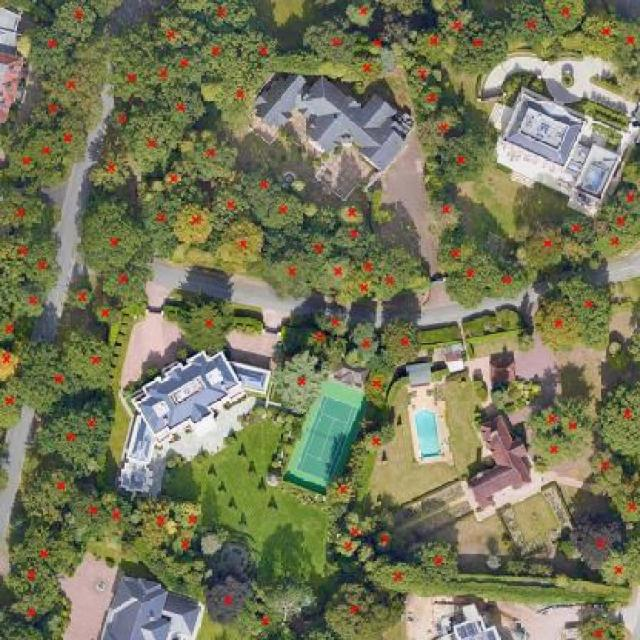tree: (78, 195, 144, 262), (323, 581, 388, 640), (592, 380, 640, 458), (564, 275, 616, 347), (20, 340, 74, 408), (39, 408, 96, 472), (0, 591, 71, 640), (373, 245, 433, 300), (279, 325, 352, 370), (574, 514, 628, 572), (454, 17, 508, 74), (276, 349, 322, 414), (445, 256, 497, 310), (128, 113, 178, 169), (303, 18, 363, 62), (218, 218, 264, 274), (536, 294, 579, 352), (206, 574, 251, 626), (44, 62, 96, 106), (182, 304, 230, 351), (178, 0, 258, 28), (138, 496, 180, 547), (72, 338, 113, 390), (0, 188, 48, 232), (441, 135, 485, 182), (73, 399, 116, 447), (98, 261, 151, 299), (32, 26, 76, 71), (270, 580, 312, 626), (159, 84, 206, 125), (53, 0, 98, 42), (371, 557, 418, 597), (417, 538, 461, 580), (191, 132, 235, 174), (268, 248, 310, 292), (156, 14, 210, 48), (384, 316, 422, 364), (106, 62, 154, 100), (141, 196, 184, 238), (0, 563, 63, 591), (511, 2, 551, 46), (27, 242, 62, 292), (524, 225, 565, 266), (22, 484, 62, 525), (28, 126, 67, 168), (220, 72, 263, 110), (260, 191, 305, 227), (40, 468, 82, 506), (173, 203, 216, 240), (0, 282, 46, 316), (428, 104, 463, 148), (198, 34, 240, 69), (52, 122, 90, 160), (592, 228, 640, 258), (375, 253, 403, 304), (86, 156, 132, 187), (242, 162, 275, 205), (532, 435, 576, 467), (98, 494, 136, 531), (582, 9, 620, 46), (240, 30, 278, 67), (208, 183, 246, 220), (11, 524, 46, 564), (488, 264, 529, 298), (109, 32, 153, 62), (348, 251, 392, 280), (269, 49, 320, 74), (436, 237, 476, 268), (590, 448, 622, 486), (547, 0, 584, 32), (603, 550, 634, 588), (577, 612, 618, 640), (74, 489, 103, 528), (615, 19, 640, 63), (414, 27, 452, 55), (527, 402, 561, 433), (320, 254, 351, 288), (72, 37, 108, 66), (47, 536, 73, 576), (353, 322, 379, 362), (306, 223, 329, 268), (428, 198, 462, 228), (326, 476, 359, 506), (32, 94, 62, 126), (366, 363, 388, 406), (0, 382, 20, 429), (249, 608, 280, 638), (562, 212, 592, 243), (147, 56, 178, 86), (602, 203, 635, 231), (177, 498, 205, 530), (562, 402, 583, 444), (443, 7, 474, 35), (351, 56, 382, 84), (339, 222, 367, 253), (313, 312, 352, 334), (1, 238, 32, 265), (343, 0, 375, 26), (407, 60, 433, 91), (174, 48, 197, 82), (617, 490, 640, 522), (345, 511, 373, 537), (420, 81, 442, 114), (351, 274, 375, 304), (36, 165, 67, 188), (0, 348, 22, 379), (614, 186, 640, 211), (337, 532, 361, 559), (11, 146, 35, 172), (378, 0, 422, 14), (68, 286, 94, 309), (200, 76, 220, 105), (199, 532, 223, 556), (490, 386, 513, 411), (0, 315, 18, 346), (0, 435, 9, 497), (174, 531, 197, 554), (162, 560, 190, 578), (94, 304, 118, 325), (373, 531, 398, 551), (362, 430, 384, 452), (362, 35, 384, 57), (342, 200, 364, 222), (621, 160, 640, 185), (358, 542, 378, 564), (432, 0, 463, 14), (484, 552, 504, 571), (110, 107, 128, 128), (518, 330, 534, 353), (164, 170, 182, 188), (530, 563, 553, 577), (509, 557, 525, 575), (559, 572, 566, 590)
